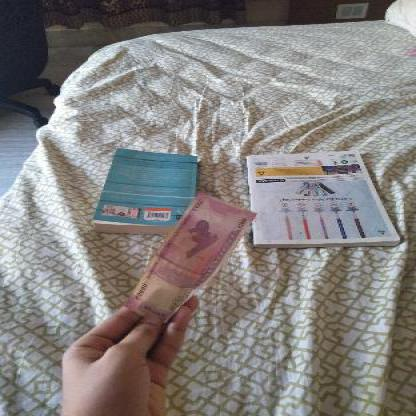New2000Back: (130, 192, 254, 316)
